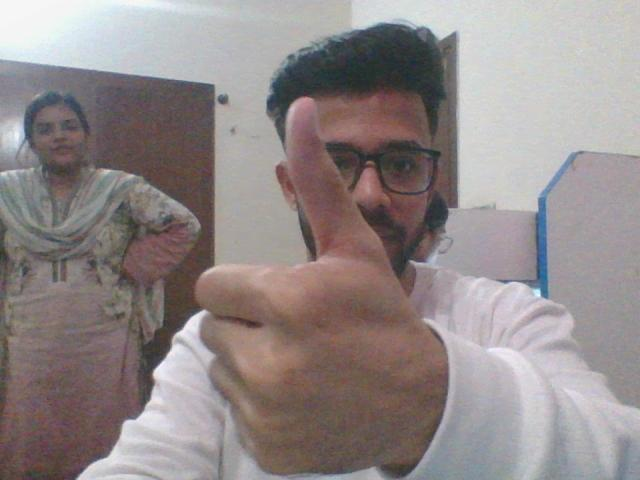thumbs-up: (172, 100, 397, 479)
